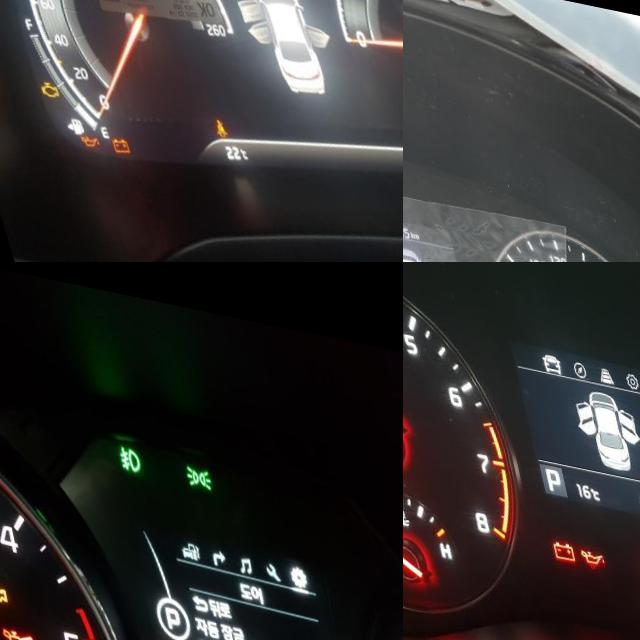FrontFogLight: (108, 430, 134, 461)
SideLamp: (175, 448, 204, 475)
